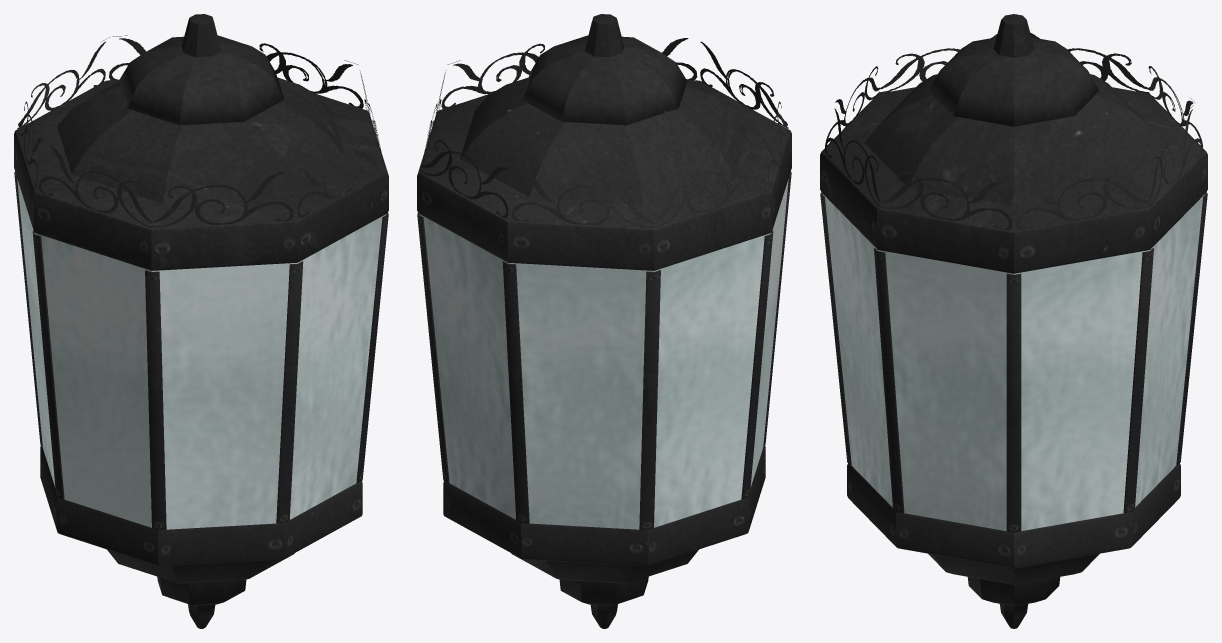
The model's file is gas lamp.fbx.
3 views of the same model, side by side, from view 1: azimuth 30°, elevation 25°; view 2: azimuth 150°, elevation 25°; view 3: azimuth 270°, elevation 25° (orthographic).
Visible parts, largest first — view 1: gas_lamp01; view 2: gas_lamp01; view 3: gas_lamp01.
Part boxes in pixels (x1,y1,x2,y2): gas_lamp01: (14,14,388,628); gas_lamp01: (417,14,791,628); gas_lamp01: (820,14,1207,628).
Bounding box in the file's own units: 1.2 × 2.08 × 1.2.
